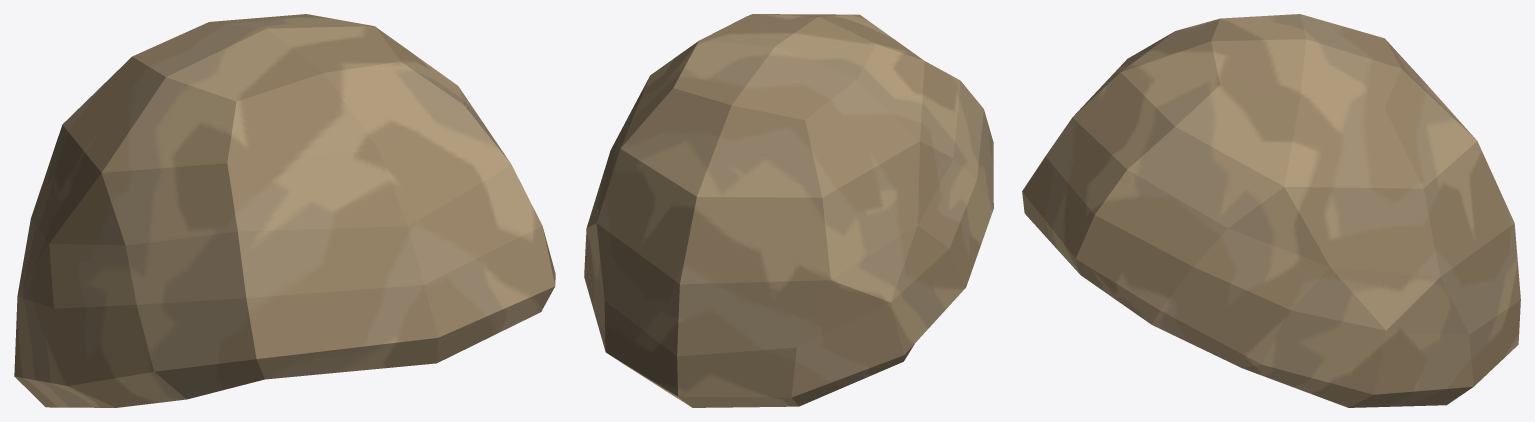
Rendered from SM_Chr_Attach_Helmet_05.fbx.
The picture shows the model from 3 angles, left to right: view 1: azimuth 30°, elevation 25°; view 2: azimuth 150°, elevation 25°; view 3: azimuth 270°, elevation 25°; orthographic projection. The views are drawn at different scales.
Visible parts, largest first — view 1: SM_Chr_Attach_Helmet_05; view 2: SM_Chr_Attach_Helmet_05; view 3: SM_Chr_Attach_Helmet_05.
Boxes of the visible parts, x1,y1,x2,y2 form: SM_Chr_Attach_Helmet_05: [14, 14, 555, 407]; SM_Chr_Attach_Helmet_05: [584, 14, 993, 407]; SM_Chr_Attach_Helmet_05: [1022, 14, 1520, 407].
Size of the model in its own units: 31.65 by 26.67 by 36.61.
